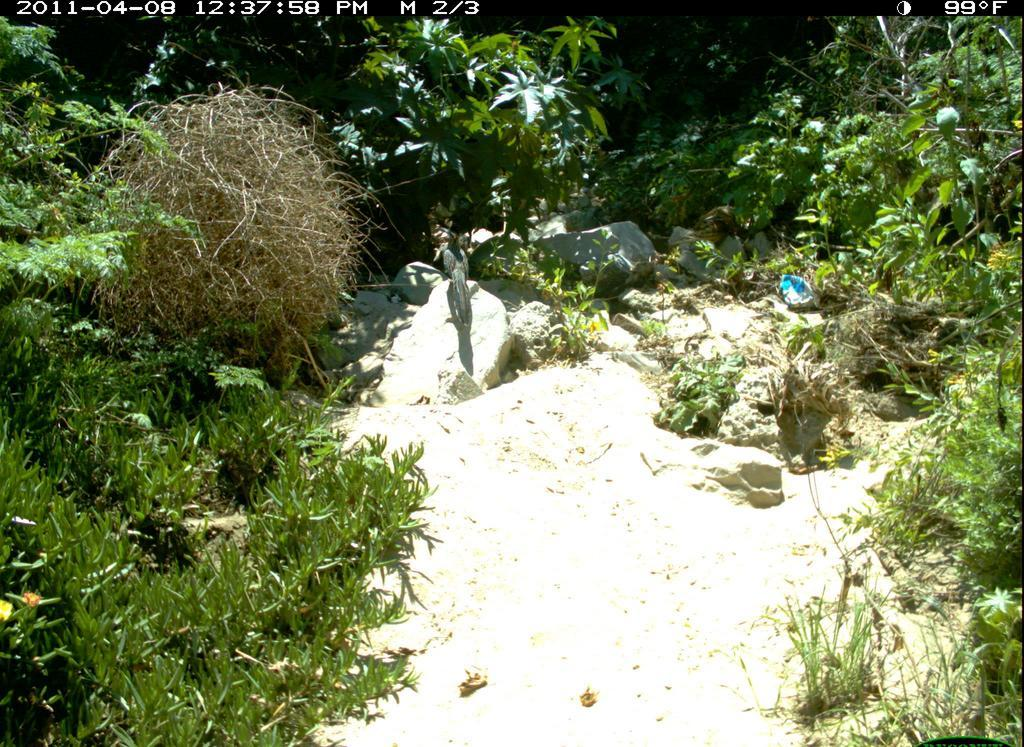bird: (419, 217, 500, 364)
